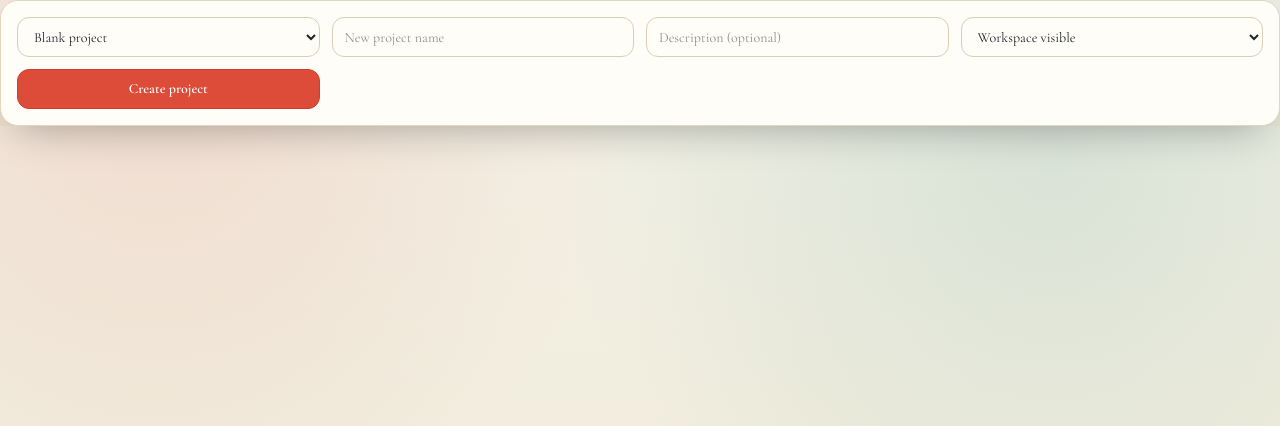
Test case: CreateProjectForm › prefills description when a template with description is selected
Select "Sprint (3 tasks)" in the 1st dropdown: (168, 37) [17, 17, 320, 57]
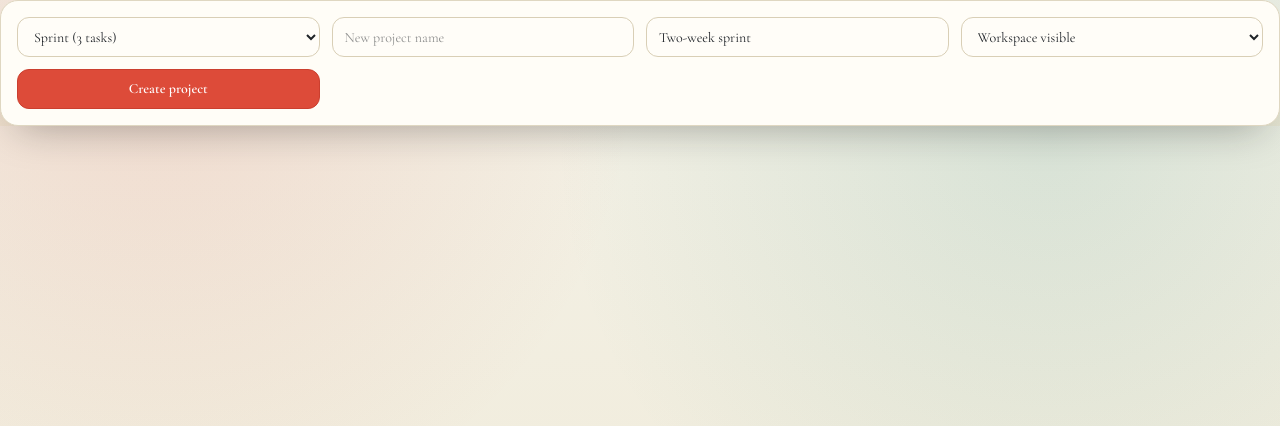
Check: the field with placeholder "Description (optional)" holds "Two-week sprint", box [646, 17, 948, 57]
